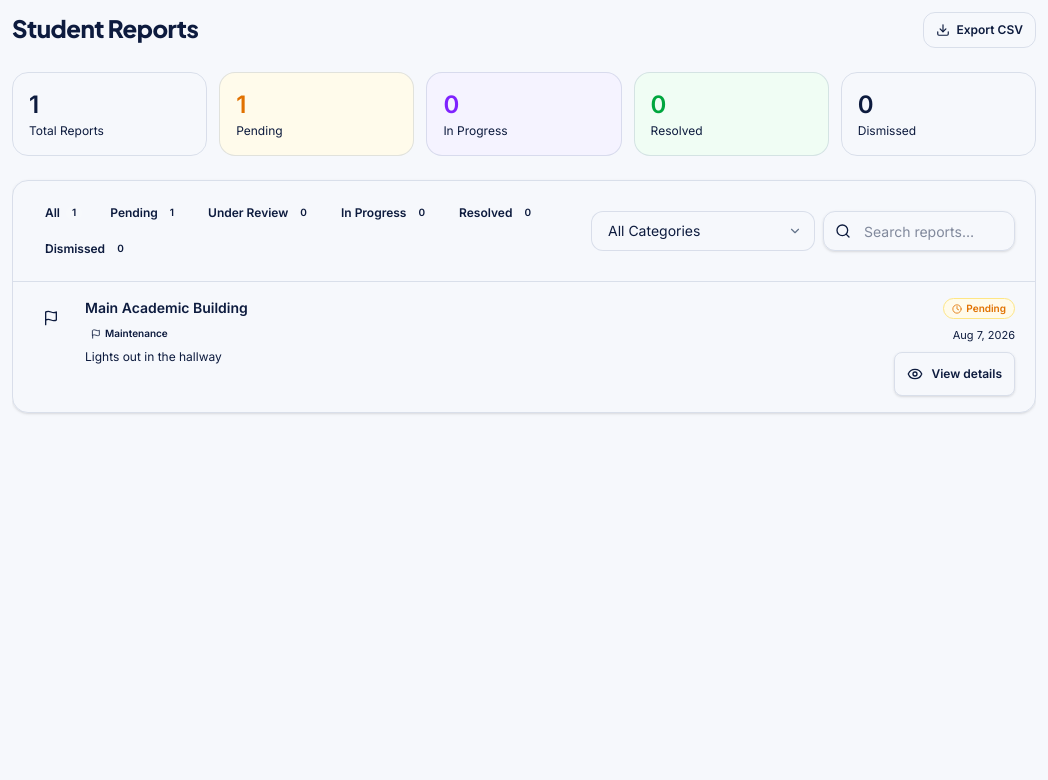
Test case: admin operational pages (C8-A) › won't offer to resolve a report nobody has reviewed
Click the button with aria-label "View report: Broken hallway light". click: (955,374)
box: [894, 352, 1015, 396]
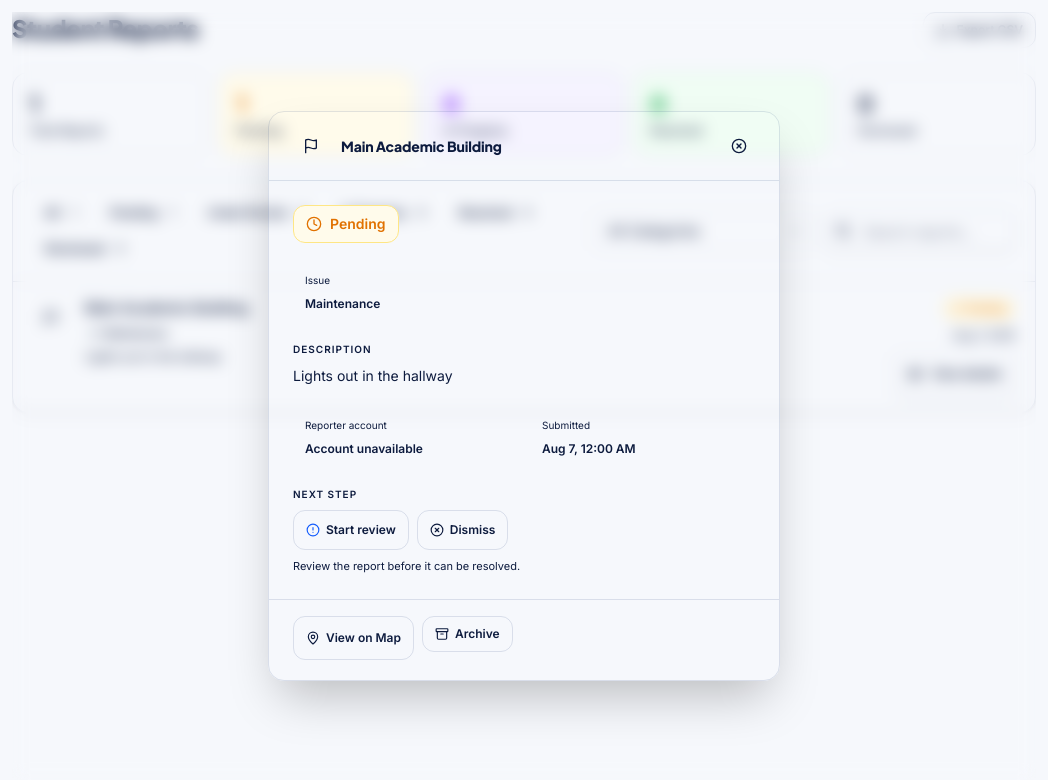
Result: the button "Start review" is shown at [293, 510, 409, 550]
Result: the button "Dismiss" is shown at [417, 510, 508, 550]
Result: the text "Review the report before it can be resolved." is shown at [293, 559, 520, 573]
